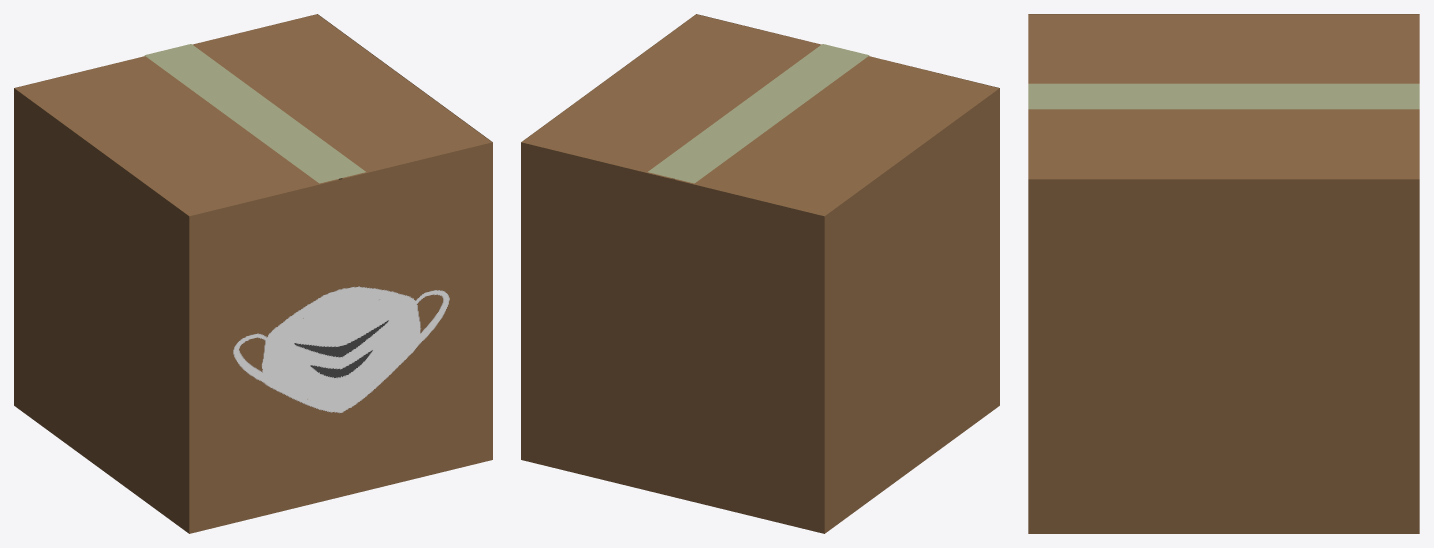
Rendered from Taped_Box.fbx.
The picture shows the model from 3 angles, left to right: view 1: azimuth 30°, elevation 25°; view 2: azimuth 150°, elevation 25°; view 3: azimuth 270°, elevation 25°; orthographic projection. The views are drawn at different scales.
Visible parts, largest first — view 1: Cube.007; view 2: Cube.007; view 3: Cube.007.
Part boxes in pixels (box(x1,y1,x2,y2)): Cube.007: box(14, 14, 492, 533); Cube.007: box(521, 14, 999, 533); Cube.007: box(1028, 14, 1419, 533).
Size of the model in its own units: 79.71 by 79.97 by 79.71.
2 materials, 1 textured.
